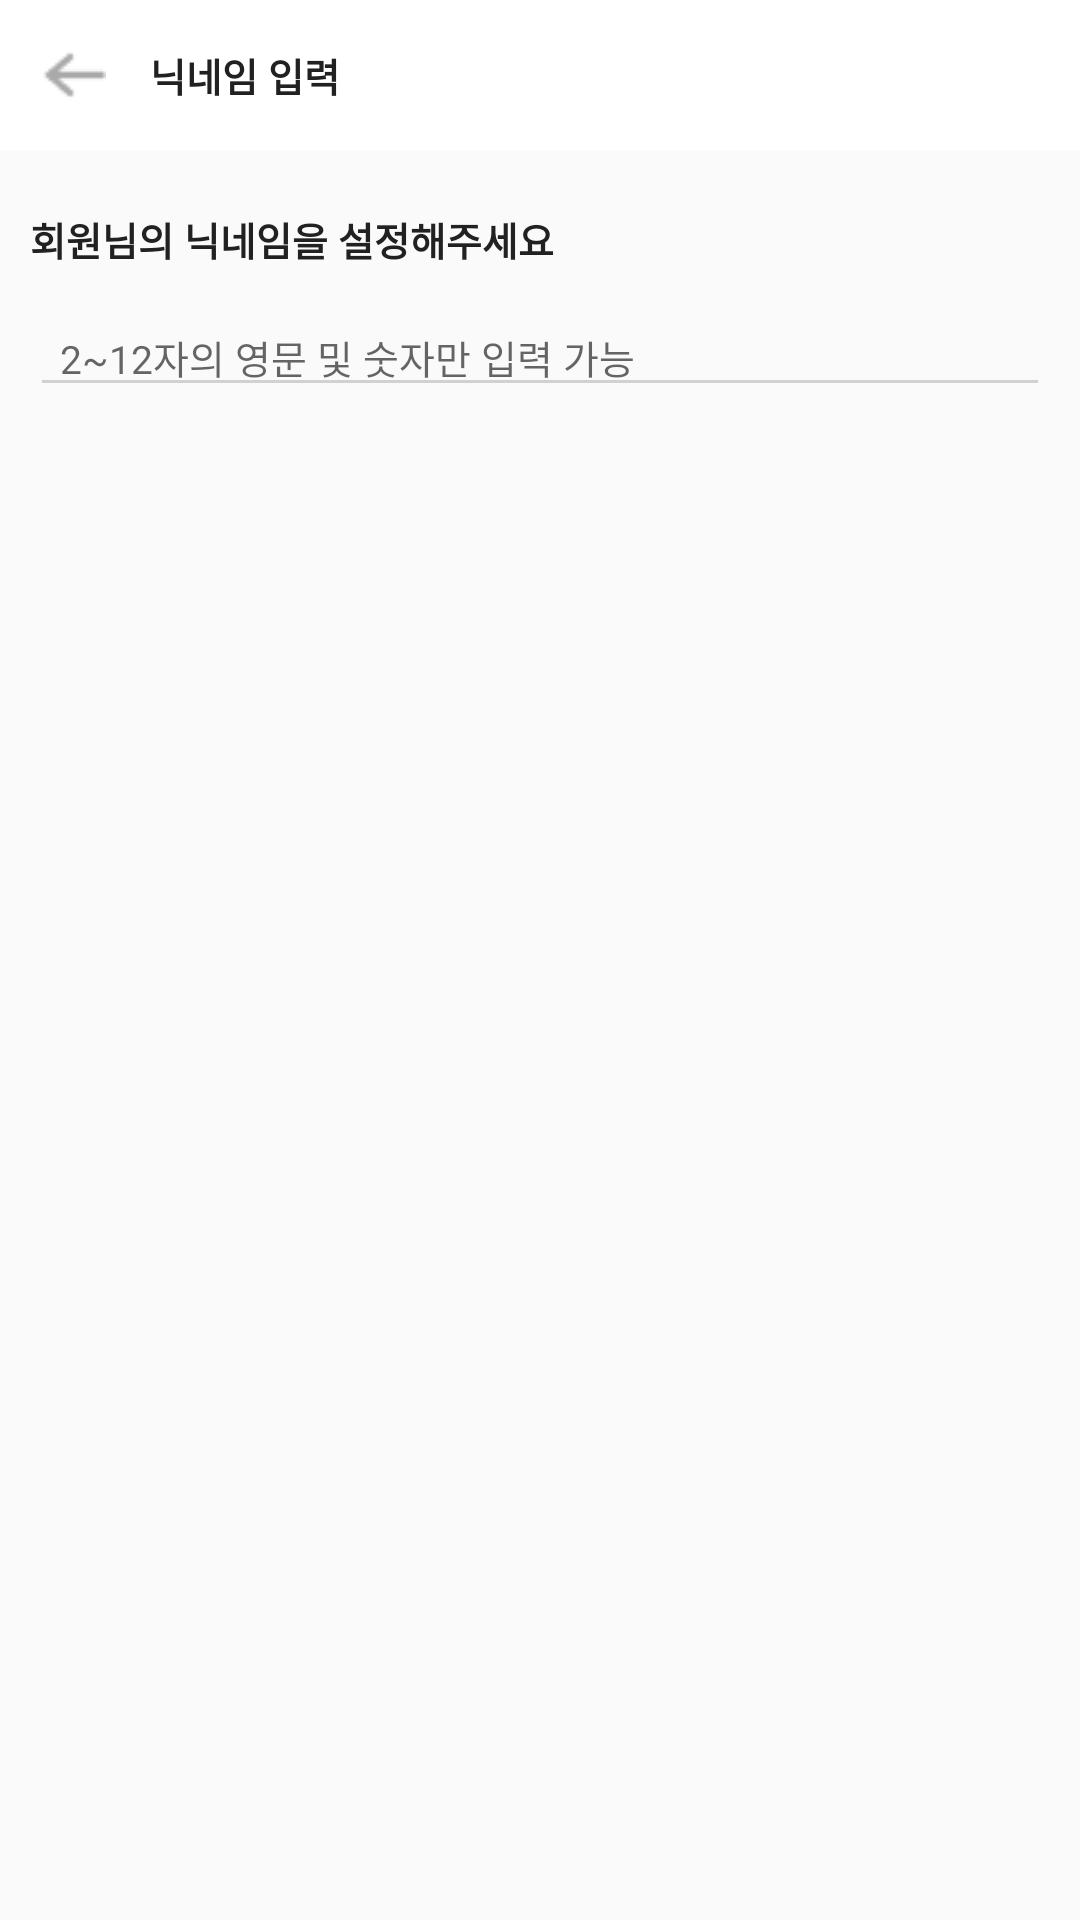

Screen size 1080×1920. Icon name, then its center in pixels as (x,y):
back: (75,75)
